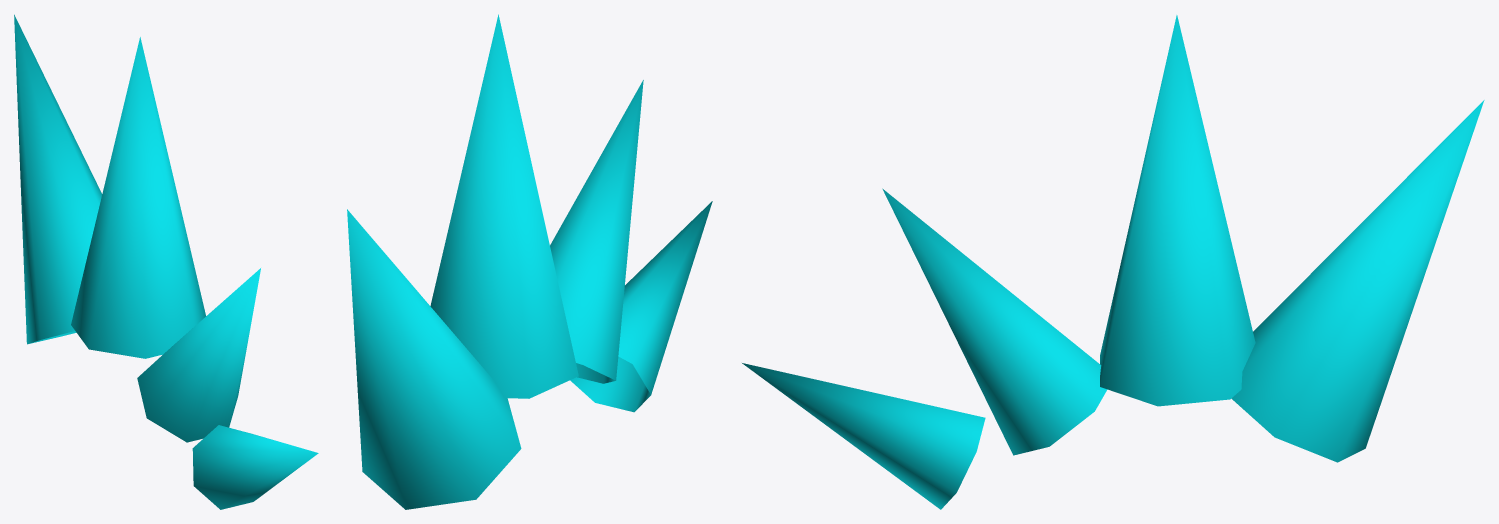
Rendered from mohawk .fbx.
The picture shows the model from 3 angles, left to right: view 1: azimuth 30°, elevation 25°; view 2: azimuth 150°, elevation 25°; view 3: azimuth 270°, elevation 25°; orthographic projection. The views are drawn at different scales.
Visible parts, largest first — view 1: mohawk; view 2: mohawk; view 3: mohawk.
Part boxes in pixels (left/top/right/bottom): mohawk: left=14, top=14, right=318, bottom=509; mohawk: left=347, top=14, right=712, bottom=509; mohawk: left=742, top=15, right=1484, bottom=509.
Bounding box in the file's own units: 53.54 × 172 × 239.
